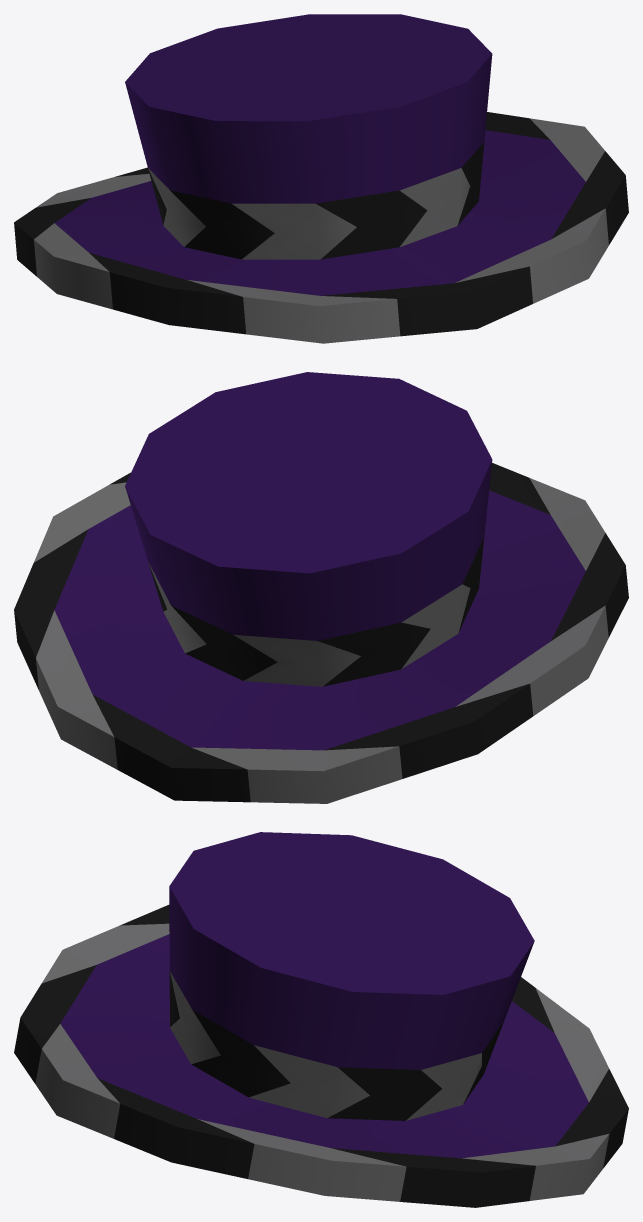
File: hat_pimp.glb
3 renders of one model, top to bottom at view 1: azimuth 30°, elevation 25°; view 2: azimuth 150°, elevation 25°; view 3: azimuth 270°, elevation 25°, orthographic.
Parts seen in each view (by area): view 1: hat_pimp; view 2: hat_pimp; view 3: hat_pimp.
Boxes of the visible parts, <box> form: hat_pimp: <box>14,14,628,343</box>; hat_pimp: <box>14,372,628,803</box>; hat_pimp: <box>14,832,628,1207</box>.
Bounding box in the file's own units: 0.5892 × 0.2717 × 0.5875.
